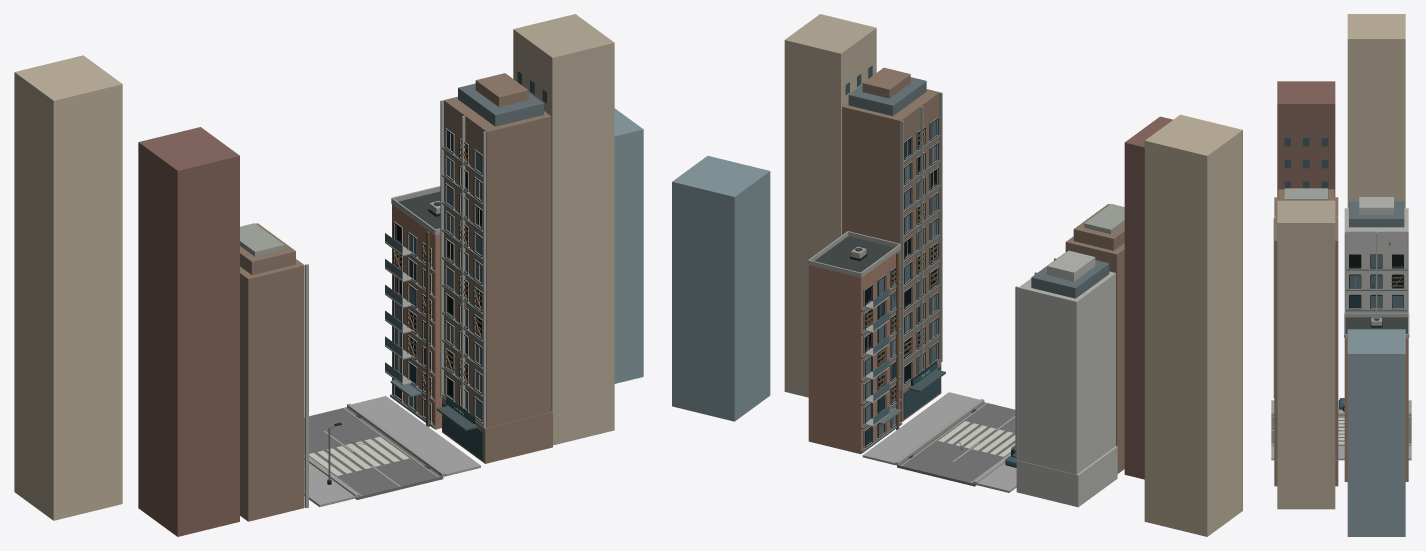
The model's file is city_hd_16.glb.
3 views of the same model, side by side, from view 1: azimuth 30°, elevation 25°; view 2: azimuth 150°, elevation 25°; view 3: azimuth 270°, elevation 25° (orthographic). The views are drawn at different scales.
Visible parts, largest first — view 1: CITY_realwall_c2b59e, CITY_realwall_927d6c, CITY_realwall_87685e, CITY_realwall_b9ad99, CITY_realwall_899da2, CITY_trim, CITY_recess, CITY_PBR_asphalt, CITY_PBR_pavement, CITY_realwall_a5826d, CITY_frame, CITY_modern_panel (+7 smaller); view 2: CITY_realwall_c2b59e, CITY_realwall_899da2, CITY_realwall_b8b9b4, CITY_realwall_b9ad99, CITY_realwall_927d6c, CITY_realwall_a5826d, CITY_realwall_87685e, CITY_trim, CITY_recess, CITY_PBR_asphalt, CITY_modern_panel, CITY_PBR_pavement (+8 smaller); view 3: CITY_realwall_b9ad99, CITY_realwall_899da2, CITY_realwall_c2b59e, CITY_realwall_87685e, CITY_realwall_b8b9b4, CITY_realwall_927d6c, CITY_trim, CITY_modern_panel, CITY_realwall_a5826d, CITY_glass, CITY_roof, CITY_distant_window (+5 smaller).
Boxes of the visible parts, x1,y1,x2,y2 form: CITY_realwall_c2b59e: [14, 55, 122, 520]; CITY_realwall_927d6c: [240, 73, 552, 521]; CITY_realwall_87685e: [138, 127, 239, 536]; CITY_realwall_b9ad99: [513, 14, 614, 445]; CITY_realwall_899da2: [614, 108, 643, 383]; CITY_trim: [240, 100, 486, 508]; CITY_recess: [393, 128, 482, 422]; CITY_PBR_asphalt: [304, 407, 443, 499]; CITY_PBR_pavement: [304, 396, 480, 507]; CITY_realwall_a5826d: [392, 204, 441, 429]; CITY_frame: [393, 128, 482, 422]; CITY_modern_panel: [390, 83, 543, 428]; CITY_realwall_c2b59e: [1144, 114, 1242, 536]; CITY_realwall_899da2: [672, 156, 770, 421]; CITY_realwall_b8b9b4: [1016, 250, 1117, 507]; CITY_realwall_b9ad99: [784, 14, 876, 397]; CITY_realwall_927d6c: [842, 67, 1124, 473]; CITY_realwall_a5826d: [808, 250, 900, 454]; CITY_realwall_87685e: [1124, 116, 1172, 479]; CITY_trim: [808, 92, 1124, 460]; CITY_recess: [863, 118, 938, 447]; CITY_PBR_asphalt: [897, 402, 1015, 486]; CITY_modern_panel: [848, 77, 1109, 458]; CITY_PBR_pavement: [862, 392, 1016, 492]; CITY_realwall_b9ad99: [1277, 200, 1335, 509]; CITY_realwall_899da2: [1347, 329, 1405, 536]; CITY_realwall_c2b59e: [1347, 14, 1405, 208]; CITY_realwall_87685e: [1277, 81, 1335, 197]; CITY_realwall_b8b9b4: [1344, 197, 1408, 313]; CITY_realwall_927d6c: [1274, 189, 1338, 486]; CITY_trim: [1273, 188, 1409, 397]; CITY_modern_panel: [1346, 201, 1407, 311]; CITY_realwall_a5826d: [1344, 338, 1408, 481]; CITY_glass: [1349, 255, 1403, 308]; CITY_roof: [1345, 317, 1407, 333]; CITY_distant_window: [1284, 137, 1328, 188].
Bounding box in the file's own units: 57.3 × 39.26 × 16.
